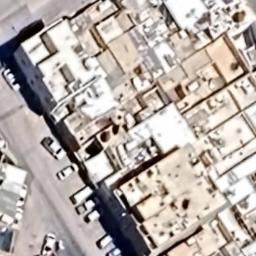pickup: (41, 134, 70, 160), (72, 197, 103, 215)
sedan: (55, 162, 82, 182), (39, 231, 59, 256), (3, 66, 22, 92)
